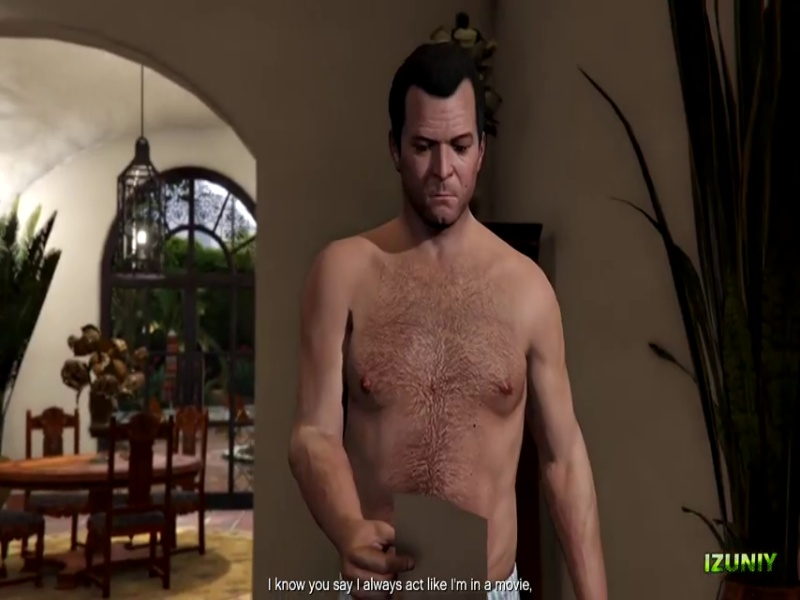human: (290, 42, 618, 594)
